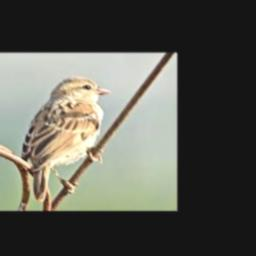Sparrow: (22, 77, 112, 202)
